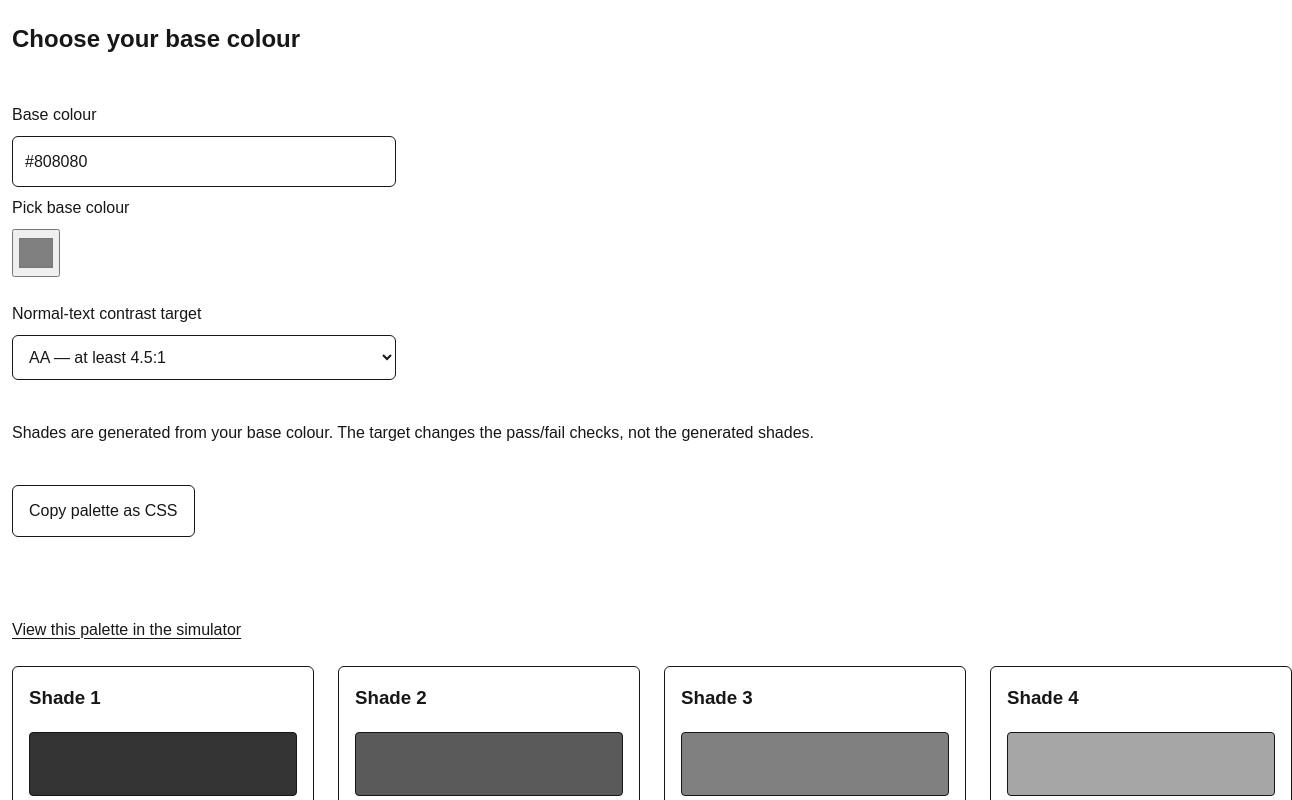
Scenario: changes target evaluations without changing shades and carries a pairing to contrast
Select "AAA — at least 7:1" in the dropdown labelled "Normal-text contrast target": (204, 357) [12,335,396,380]
(page scrolled)
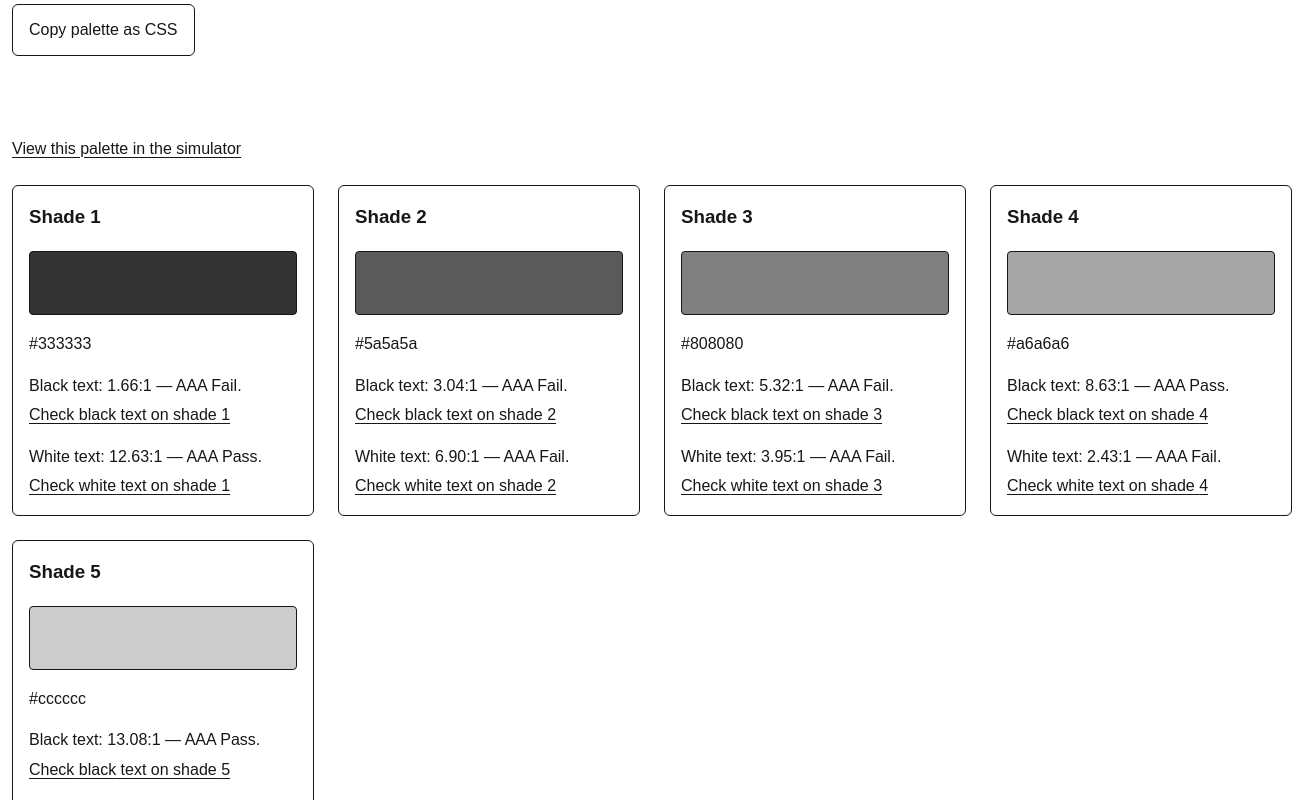
Check: the text "#808080" is shown, box [681,335,743,352]
Check: the list item "Black text: 5.32:1 — AAA Fail. Check black text on shade 3" is shown, box [681,377,894,423]
